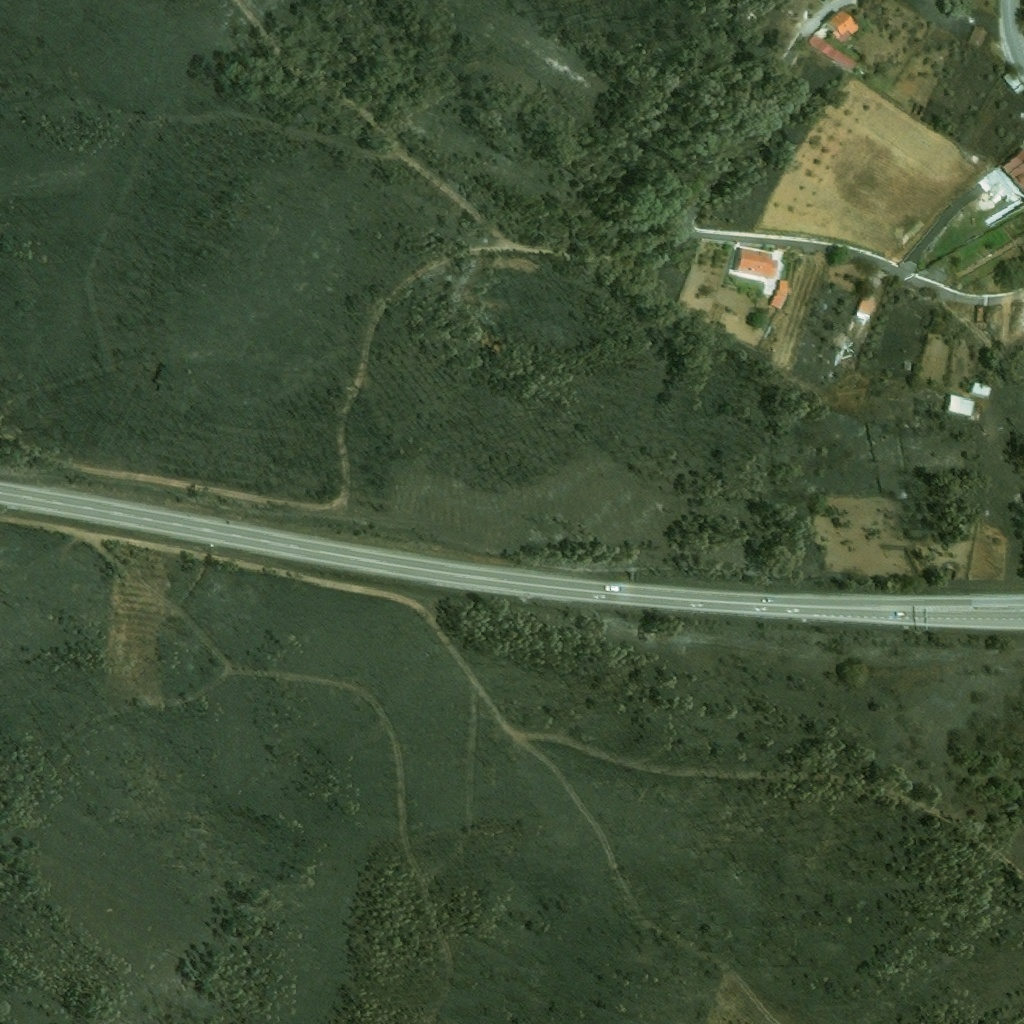0 no-damage: (806, 32, 856, 72), (731, 248, 779, 279), (823, 9, 861, 38), (1001, 149, 1023, 193), (854, 288, 881, 321), (946, 394, 977, 417), (768, 280, 790, 309), (1001, 69, 1023, 95), (969, 376, 994, 398), (967, 26, 985, 46), (973, 304, 990, 325), (919, 0, 937, 6), (903, 361, 912, 371)
